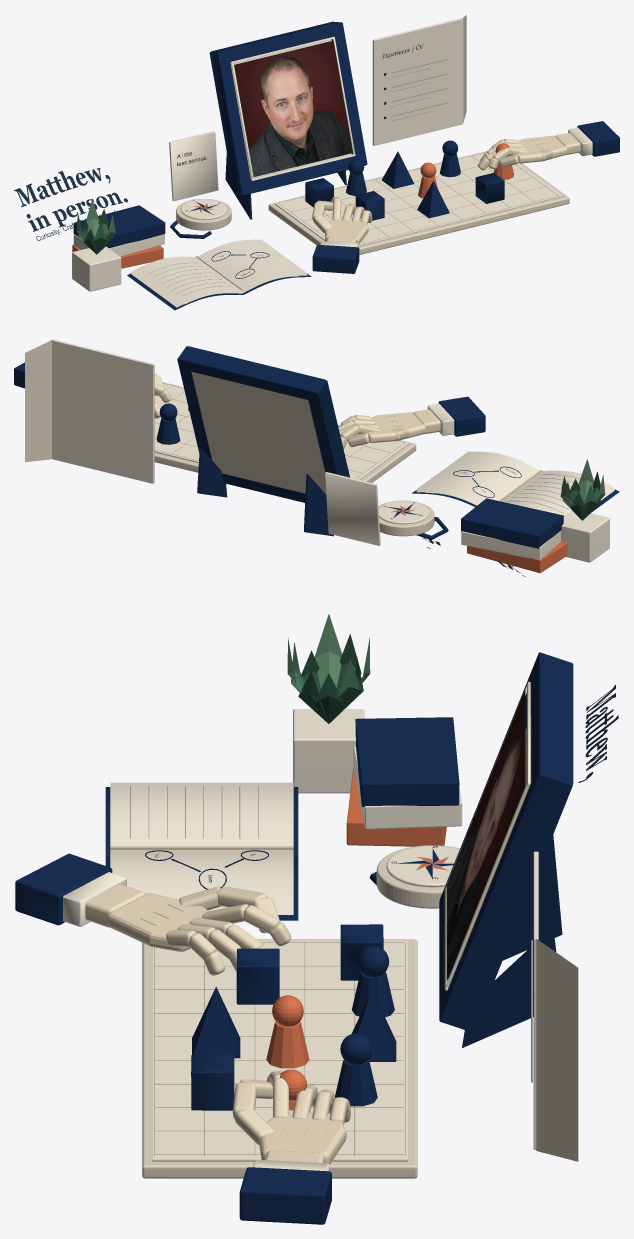
Rendered from about.glb.
3 renders of one model, top to bottom at view 1: azimuth 30°, elevation 25°; view 2: azimuth 150°, elevation 25°; view 3: azimuth 270°, elevation 25°, orthographic. The views are drawn at different scales.
Visible parts, largest first — view 1: Matthew headshot photograph, CV standing page, Strategy board playing surface, Blue pawn body, Open notebook leaf 1, Blue pawn body.001, Compass cream dial, Strategy board, Folded plant pot, Compass fabric loop, About subtitle, Right paper hand index segment 0 (+11 smaller); view 2: CV standing page, Compass paper case, Blue pawn body, Open notebook leaf 1, Compass cream dial, Compass fabric loop, Folded plant pot, Strategy board playing surface, CV return fold, Compass direction facet, Blue pawn body.001, Left paper hand index segment 0 (+8 smaller); view 3: Strategy board playing surface, Blue pawn body.001, Open notebook leaf 1, Blue pawn body, Compass fabric loop, CV return fold, Strategy board, Matthew headshot photograph, Folded plant pot, Left paper hand index segment 0, Compass direction facet, Right paper hand index segment 0 (+13 smaller).
Part boxes in pixels (left/top/right/bottom): Matthew headshot photograph: left=234, top=40, right=353, bottom=176; CV standing page: left=372, top=18, right=463, bottom=145; Strategy board playing surface: left=275, top=38, right=592, bottom=246; Blue pawn body: left=209, top=21, right=384, bottom=273; Open notebook leaf 1: left=131, top=239, right=307, bottom=307; Blue pawn body.001: left=331, top=22, right=619, bottom=218; Compass cream dial: left=169, top=36, right=358, bottom=247; Strategy board: left=268, top=151, right=569, bottom=254; Folded plant pot: left=72, top=233, right=165, bottom=291; Compass fabric loop: left=73, top=205, right=256, bottom=278; About subtitle: left=14, top=168, right=127, bottom=240; Right paper hand index segment 0: left=477, top=133, right=580, bottom=170; CV standing page: left=52, top=339, right=154, bottom=483; Compass paper case: left=191, top=371, right=434, bottom=536; Blue pawn body: left=179, top=346, right=485, bottom=502; Open notebook leaf 1: left=416, top=451, right=614, bottom=516; Compass cream dial: left=325, top=403, right=454, bottom=545; Compass fabric loop: left=416, top=466, right=563, bottom=548; Folded plant pot: left=461, top=511, right=609, bottom=562; Strategy board playing surface: left=154, top=383, right=408, bottom=479; CV return fold: left=25, top=339, right=52, bottom=462; Compass direction facet: left=197, top=448, right=412, bottom=536; Blue pawn body.001: left=14, top=346, right=211, bottom=459; Left paper hand index segment 0: left=338, top=409, right=440, bottom=448; Strategy board playing surface: left=152, top=784, right=528, bottom=1171; Blue pawn body.001: left=191, top=768, right=572, bottom=1224; Open notebook leaf 1: left=110, top=782, right=293, bottom=914; Blue pawn body: left=15, top=652, right=573, bottom=1020; Compass fabric loop: left=145, top=717, right=459, bottom=885; CV return fold: left=536, top=939, right=578, bottom=1161; Strategy board: left=142, top=939, right=417, bottom=1178; Matthew headshot photograph: left=446, top=690, right=525, bottom=981; Folded plant pot: left=293, top=709, right=462, bottom=829; Left paper hand index segment 0: left=85, top=884, right=291, bottom=975; Compass direction facet: left=396, top=835, right=562, bottom=1047; Right paper hand index segment 0: left=232, top=1071, right=350, bottom=1163.
Size of the model in its own units: 10.64 by 3.03 by 5.3.
Materials: 12 (1 with a texture image).
